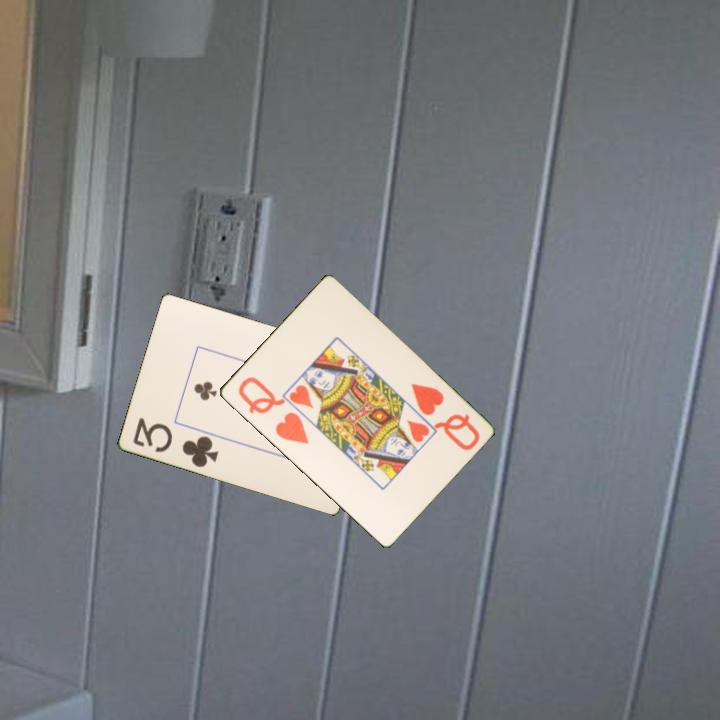3c: (130, 414, 222, 470)
Qh: (234, 373, 311, 447), (407, 380, 483, 453)
